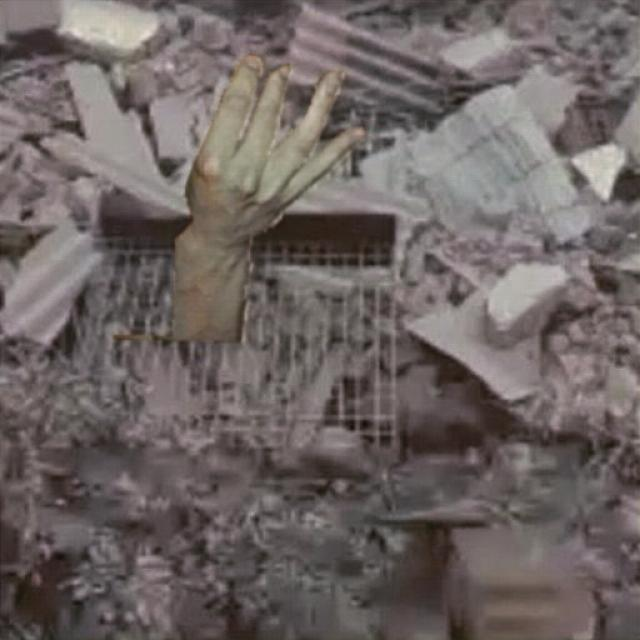Person in Rubble: (114, 55, 364, 341)
